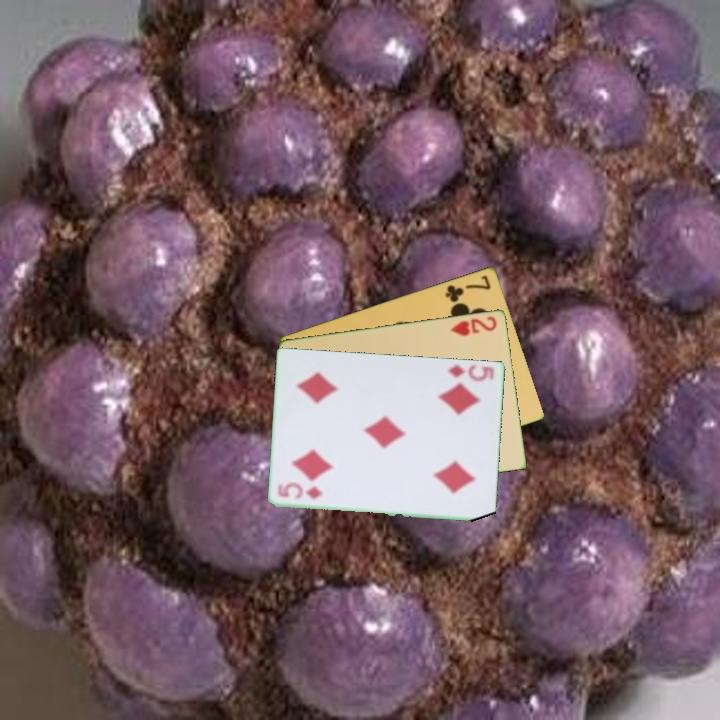2h: (447, 312, 500, 339)
5d: (445, 361, 497, 384), (274, 482, 326, 502)
7c: (442, 271, 494, 305)
